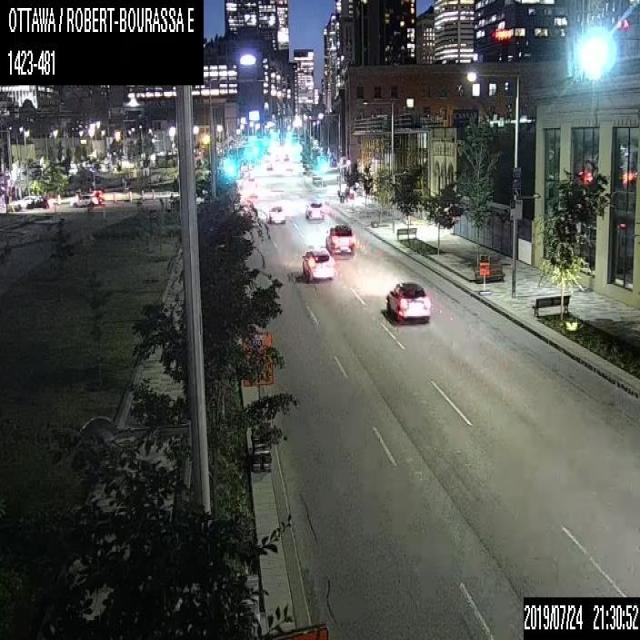construction: (241, 330, 272, 472), (477, 259, 489, 293)
vehicle: (385, 281, 430, 320), (301, 247, 334, 280), (325, 223, 353, 256), (304, 200, 324, 220), (70, 192, 98, 206), (267, 204, 285, 223), (25, 196, 48, 208)
